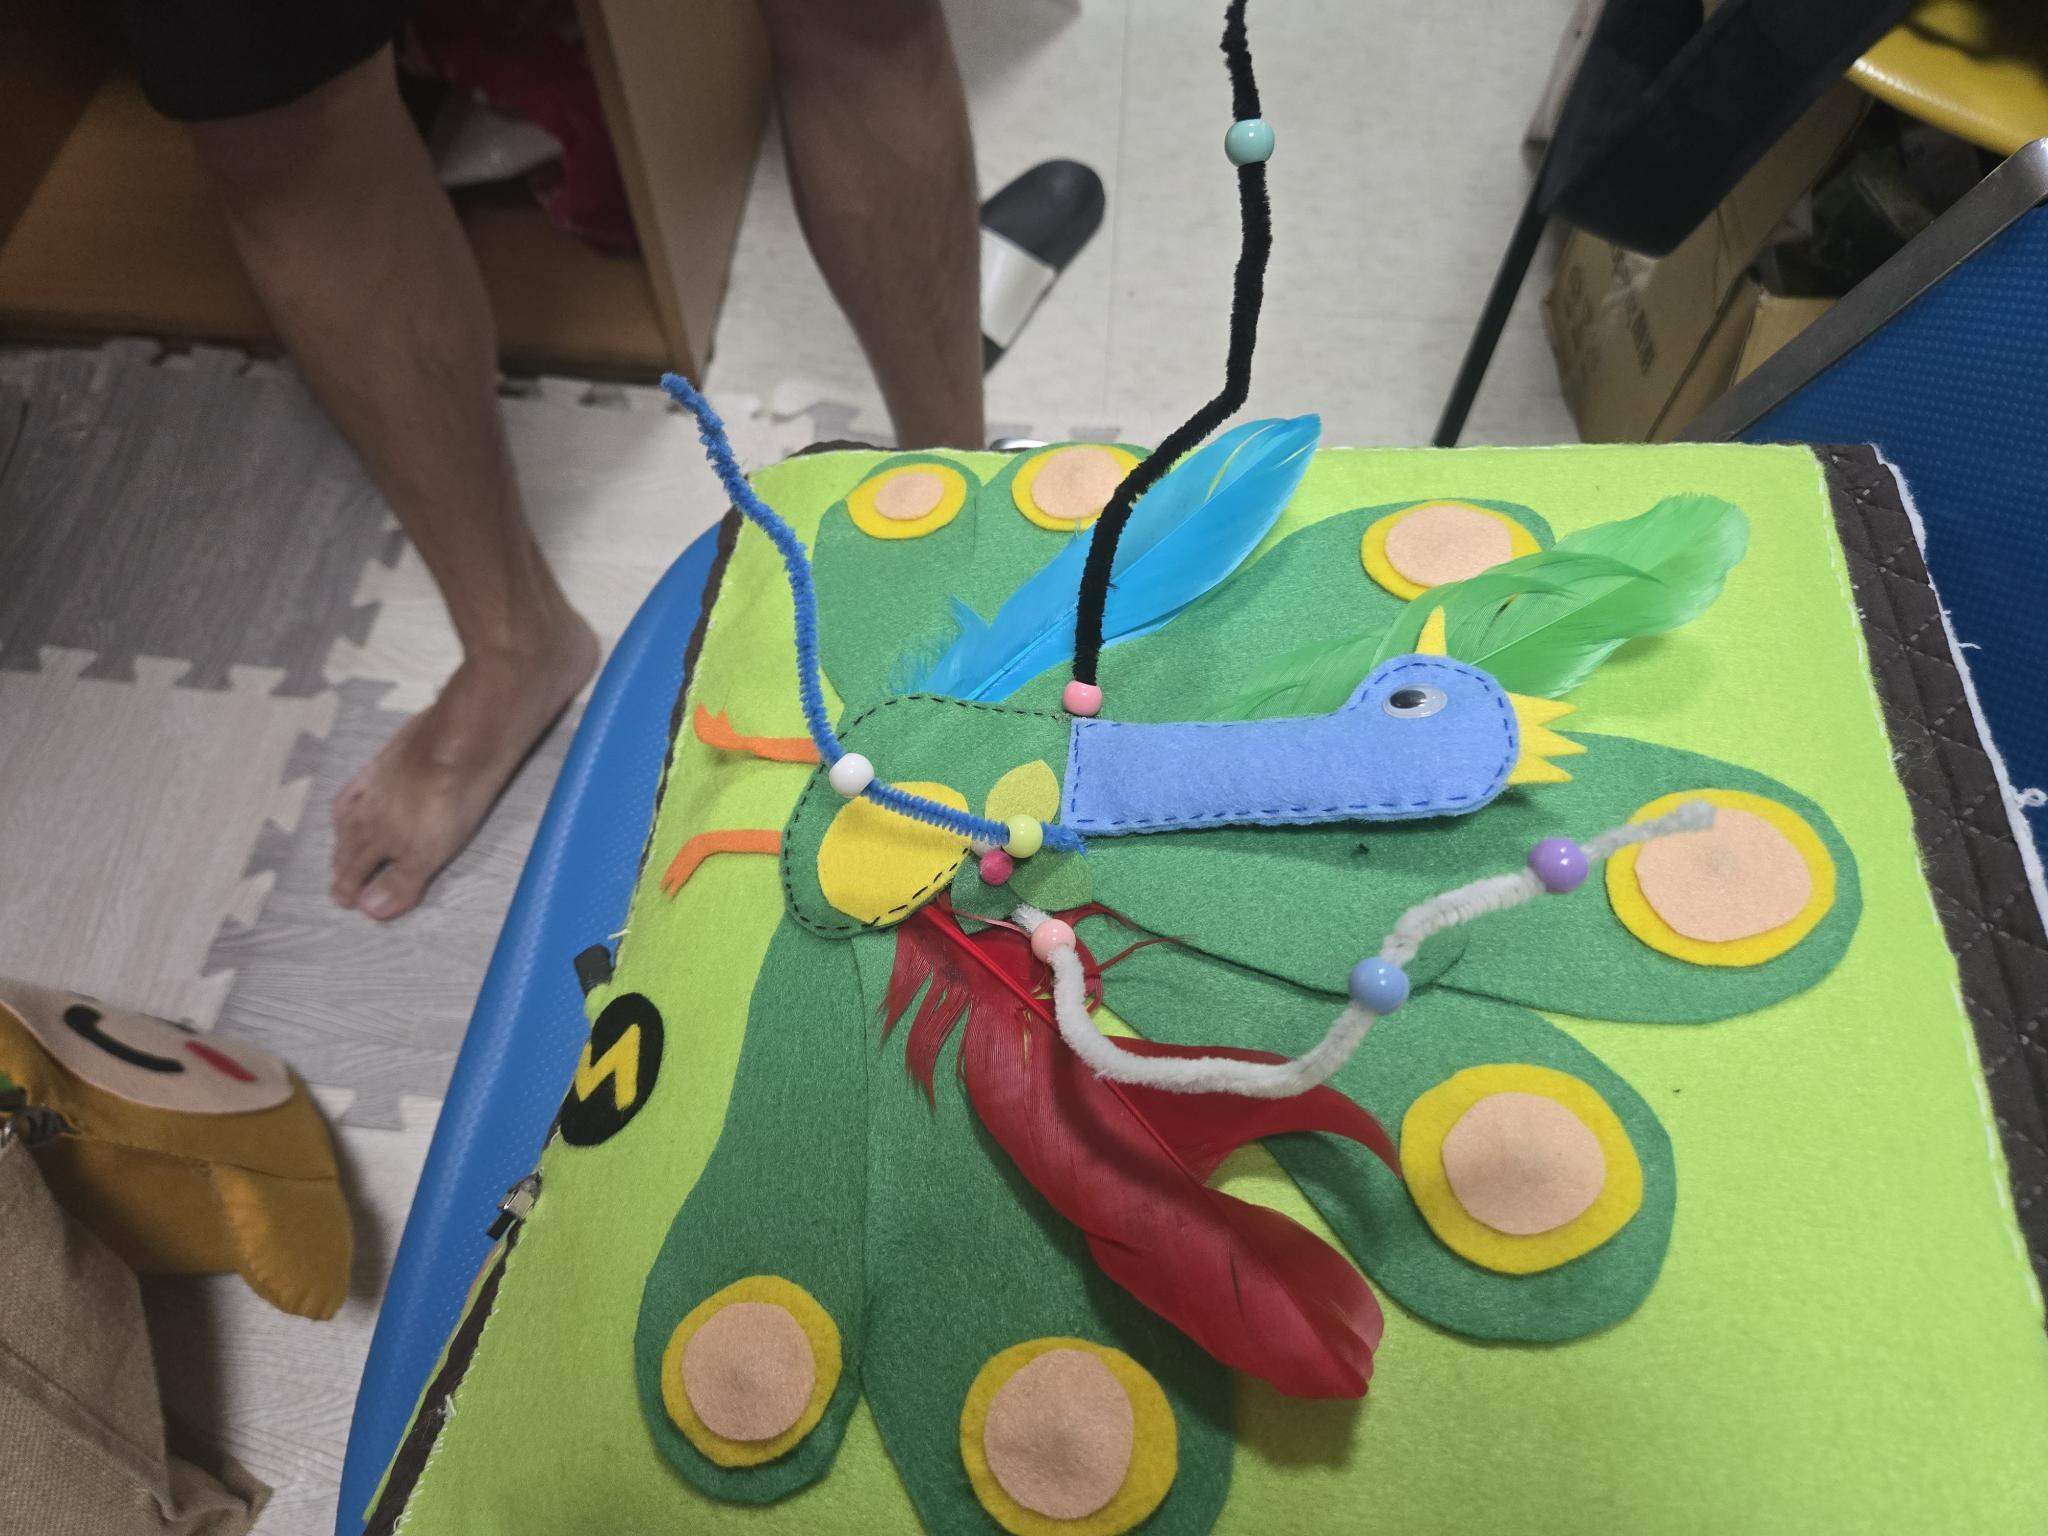bead: (1356, 945, 1419, 1023), (1530, 837, 1603, 900), (1050, 668, 1116, 728), (1219, 110, 1272, 174), (1003, 802, 1042, 865), (826, 750, 871, 802), (1029, 920, 1072, 960)
